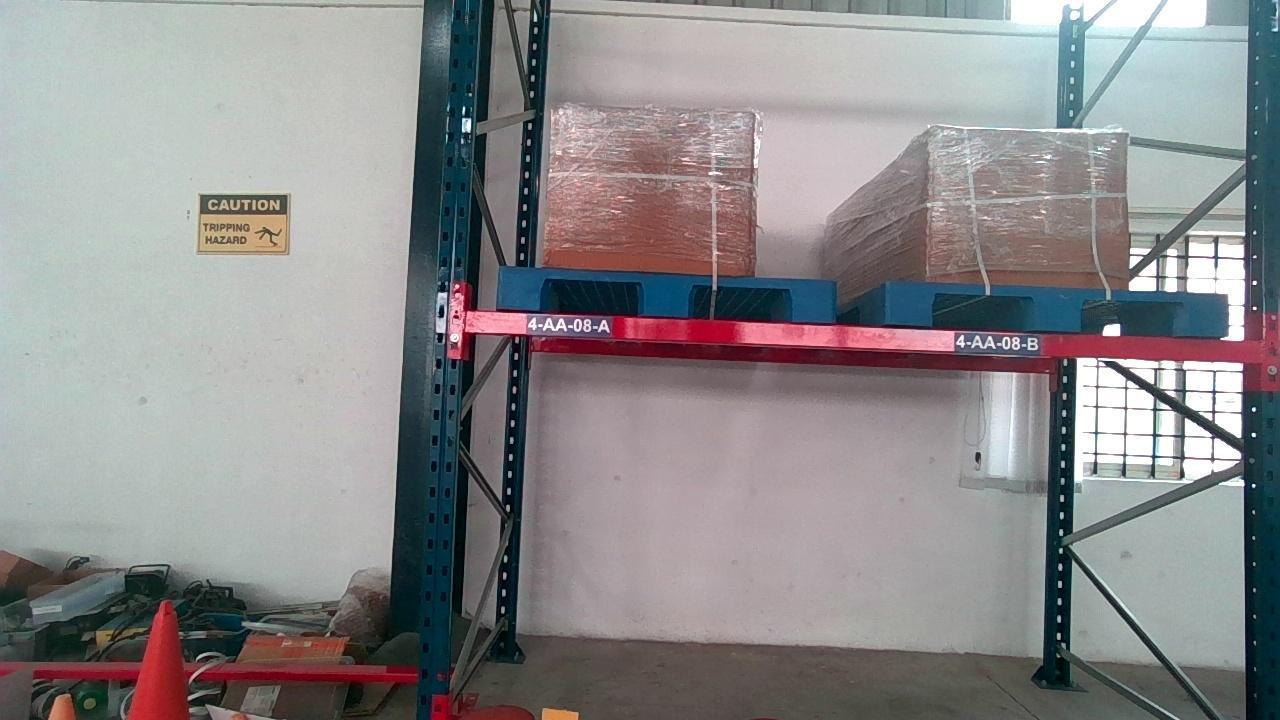h_rack: (467, 317, 1250, 358)
small_pallet: (889, 285, 1222, 331), (495, 270, 834, 314)
